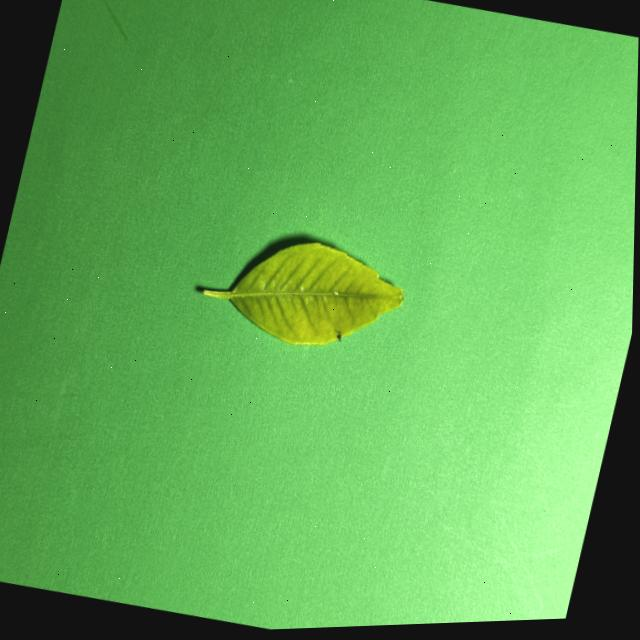greening: (202, 243, 401, 344)
